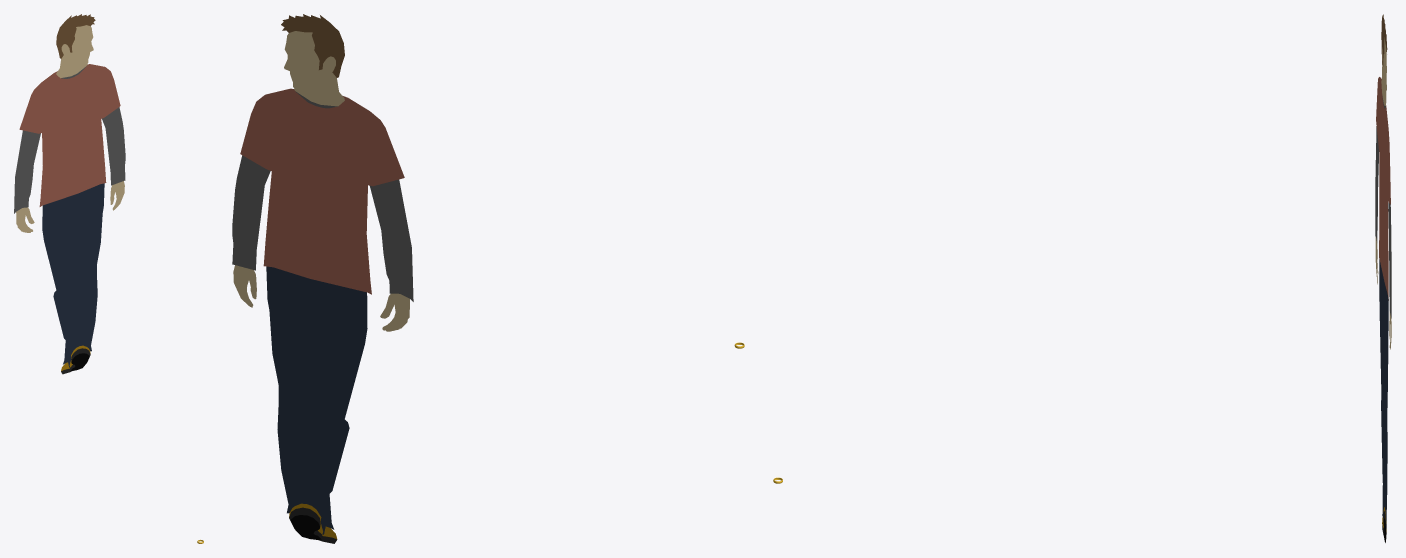
The picture shows the model from 3 angles, left to right: view 1: azimuth 30°, elevation 25°; view 2: azimuth 150°, elevation 25°; view 3: azimuth 270°, elevation 25°; orthographic projection. The views are drawn at different scales.
Visible parts, largest first — view 1: Bryce (×8); view 2: Bryce (×8); view 3: Bryce (×2).
Boxes of the visible parts, x1,y1,x2,y2 form: Bryce (×8): (14, 14, 125, 367); Bryce (×8): (232, 14, 413, 534); Bryce (×2): (1376, 77, 1390, 528).
Bounding box in the file's own units: 28.66 × 76.37 × 71.33.
